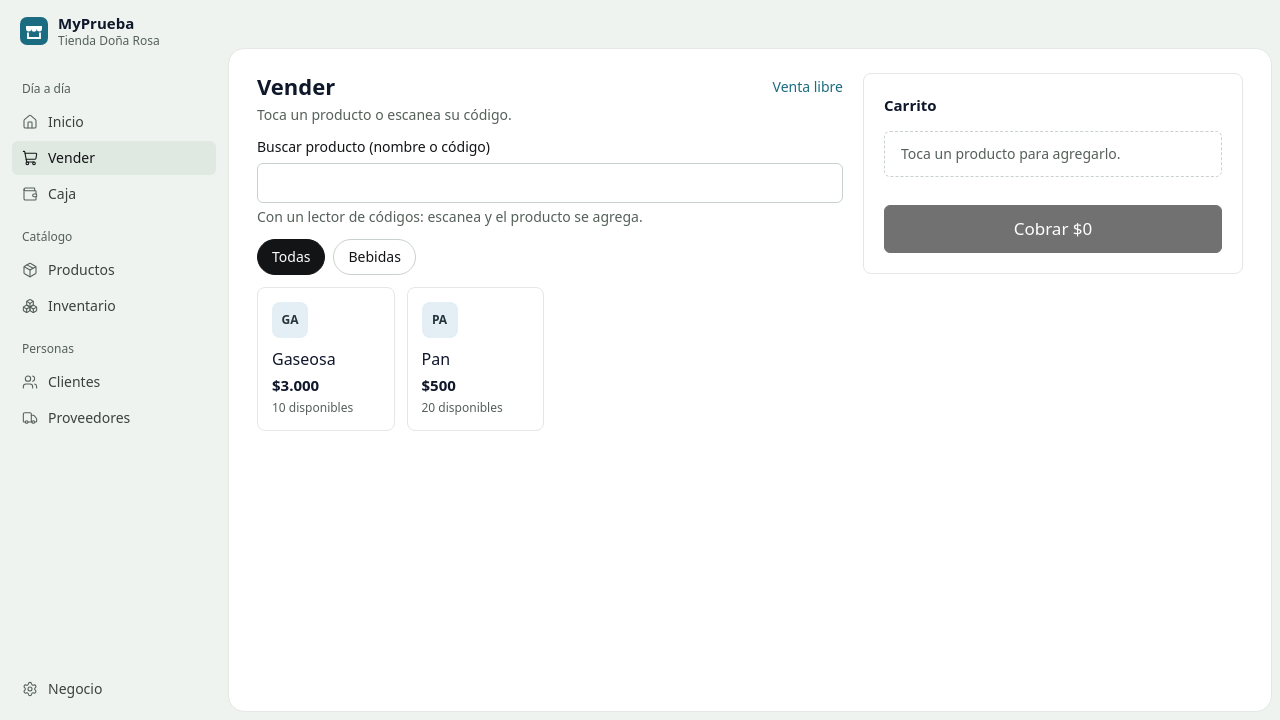
Scenario: point of sale › explains when a discount is too big
Step 1. Click the button with aria-label "Agregar Pan" → (475, 359), box x1=406 y1=286 x2=544 y2=431
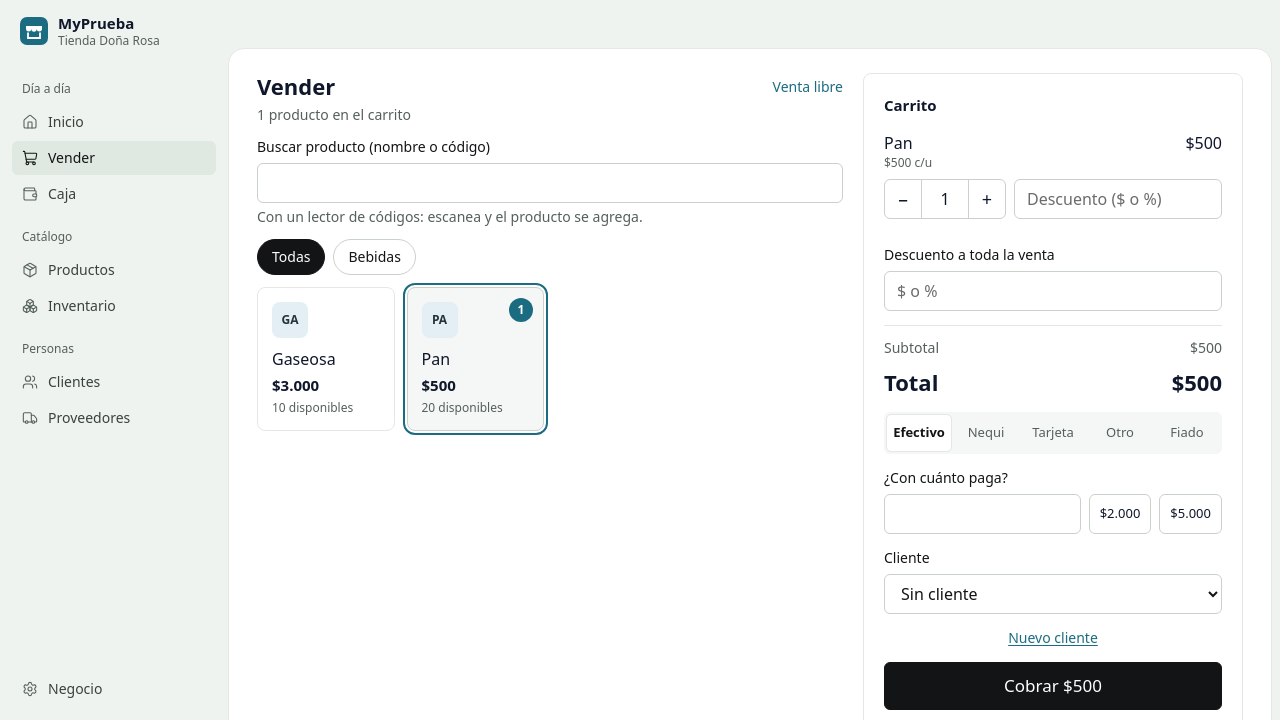
Step 2. Type "900" into the field named "Descuento de Pan" → (1118, 198), box x1=1014 y1=178 x2=1222 y2=218
(page scrolled)
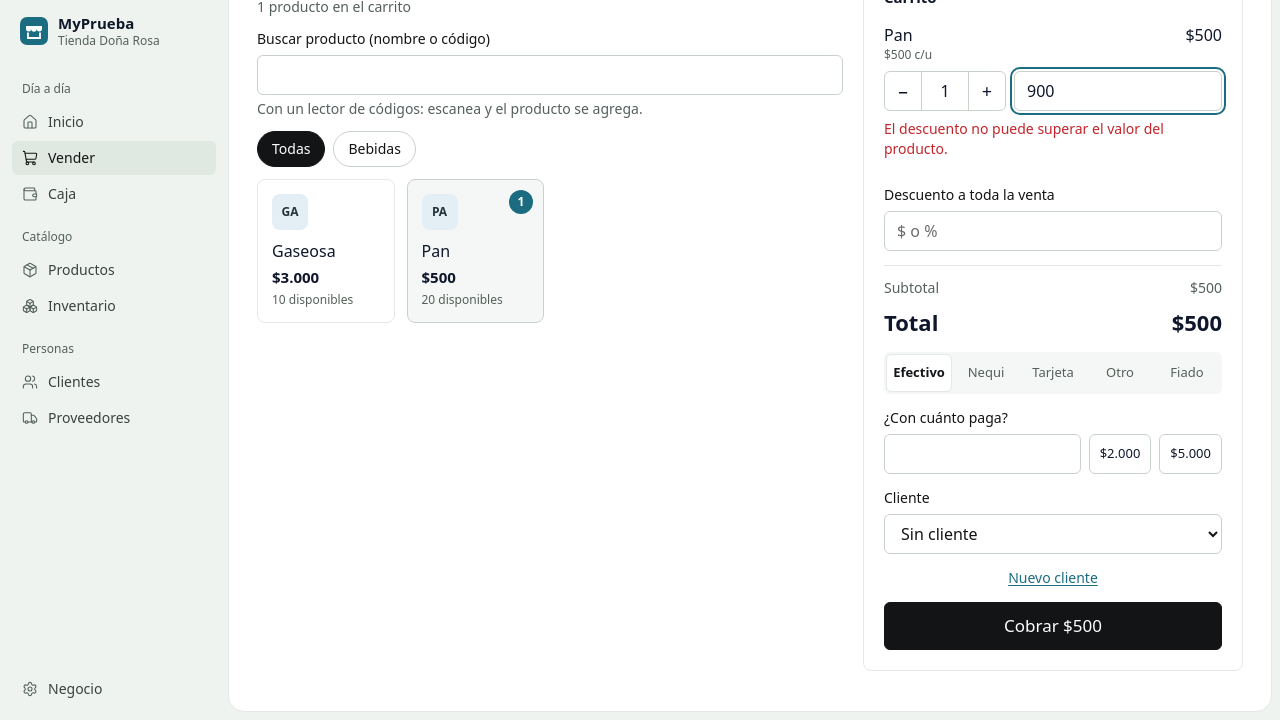
Now the text "El descuento no puede superar el valor del producto." is shown, box x1=884 y1=118 x2=1164 y2=158
Step 3. Click the button "Cobrar $500" → (1053, 626), box x1=884 y1=602 x2=1222 y2=650
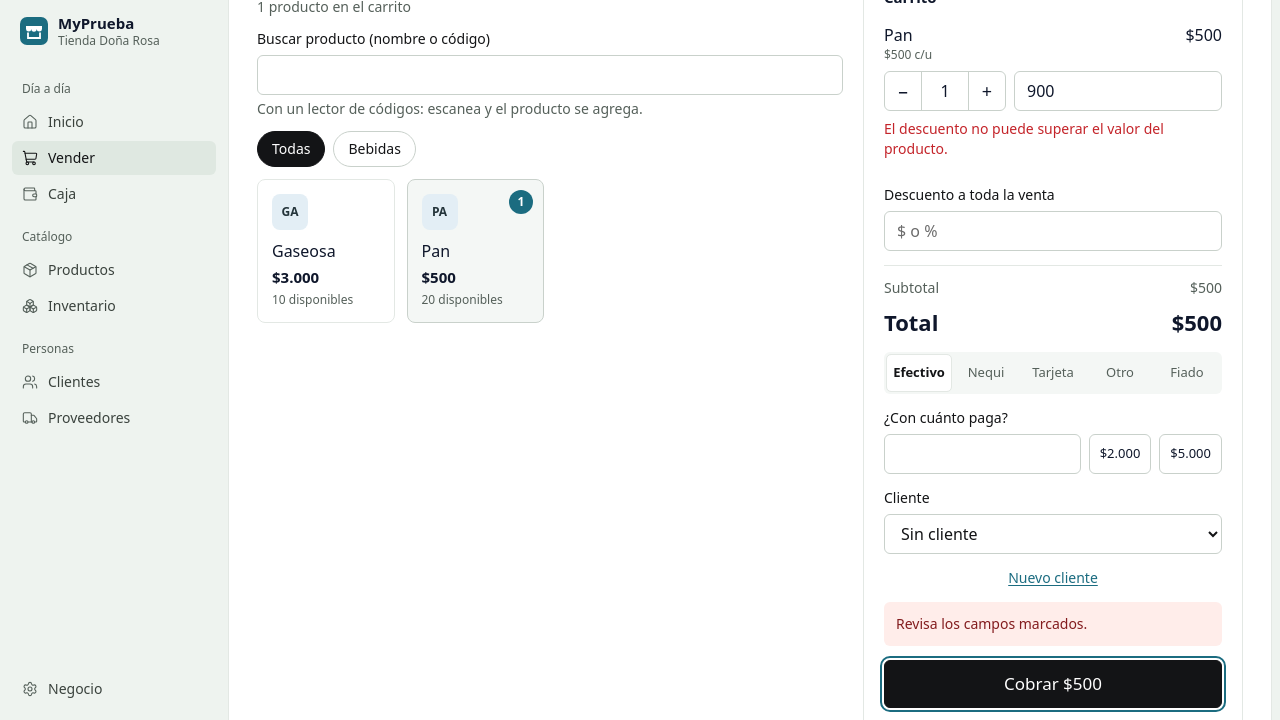
Now the message reads "Revisa los campos marcados.", box x1=896 y1=614 x2=1087 y2=632
